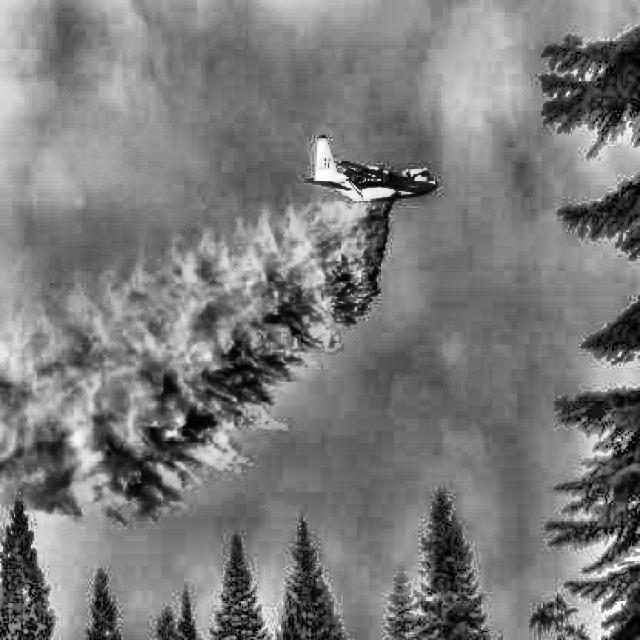C130: (304, 135, 438, 202)
